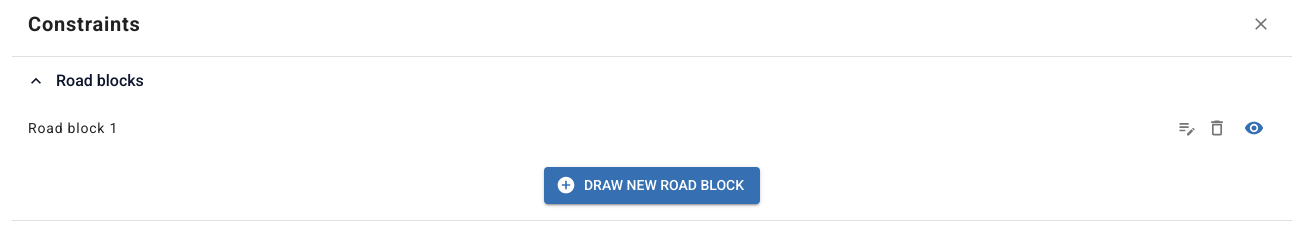
Test case: ConstraintsView › Constraint Actions › cancels edit on Escape key
Expected: the text "Road block 1" is shown, [28, 120, 118, 136]
Click the button named "Edit constraint name". click: (1187, 128)
box: [1172, 113, 1202, 143]
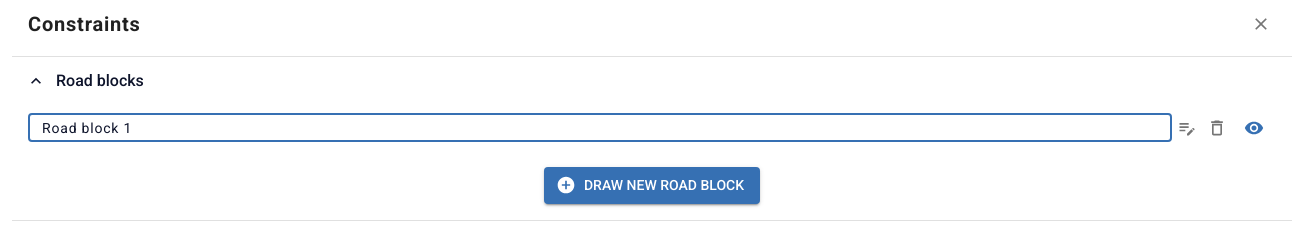
Replace the text in the field showing "Road block 1" with "Changed". click: (600, 128)
box: [28, 114, 1172, 142]
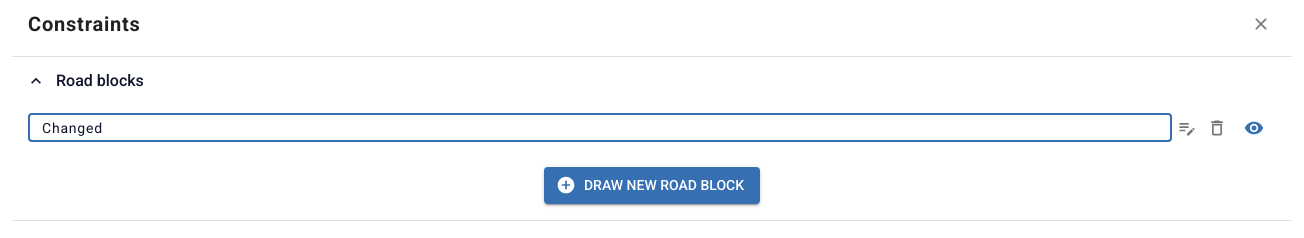
Press Escape in the field showing "Road block 1", box [28, 114, 1172, 142]
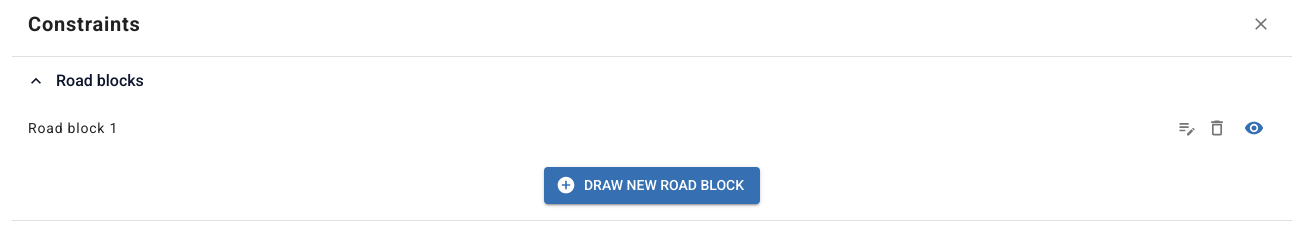
Now the text "Road block 1" is shown, box [28, 120, 118, 136]
